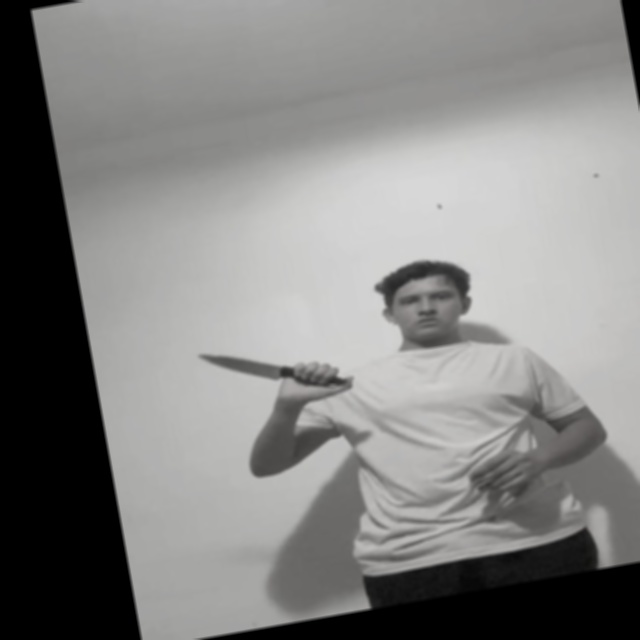Sharp-Object: (200, 340, 285, 389)
